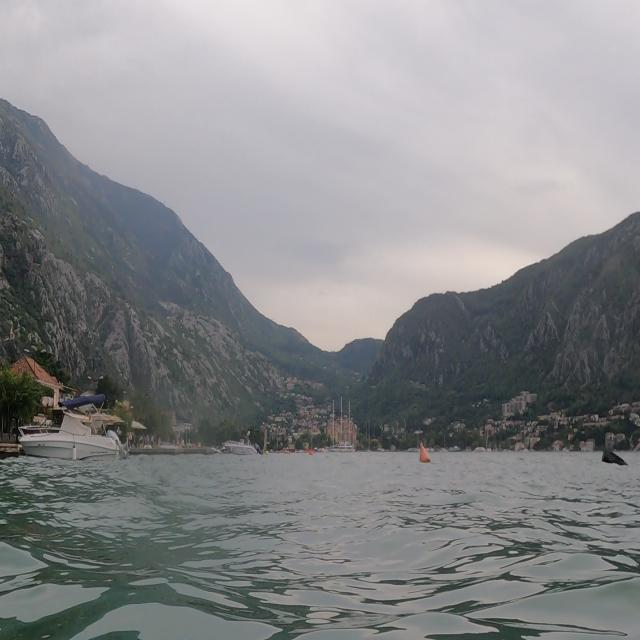boat: (17, 401, 128, 465)
buoy: (598, 438, 632, 480), (418, 438, 432, 473)
